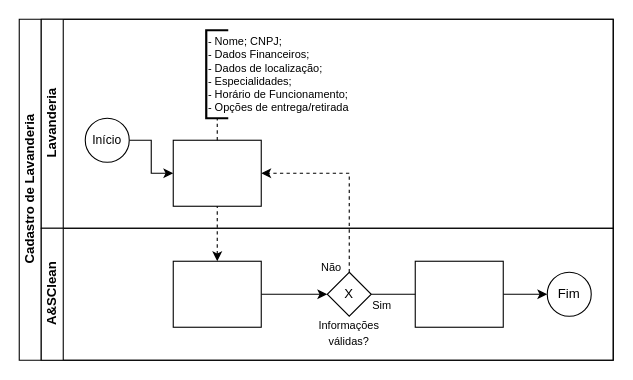
Image size: 633x380. Some labels were removed from this diagram. The shapes that lost their labels are listed below. From the top down, each one's centre as x and y in pixels, then its label:
At (216,172): "Inserir Informações Empresariais".
At (216,293): "Verifica Informações".
At (458,293): "Cadastra Lavanderia".
